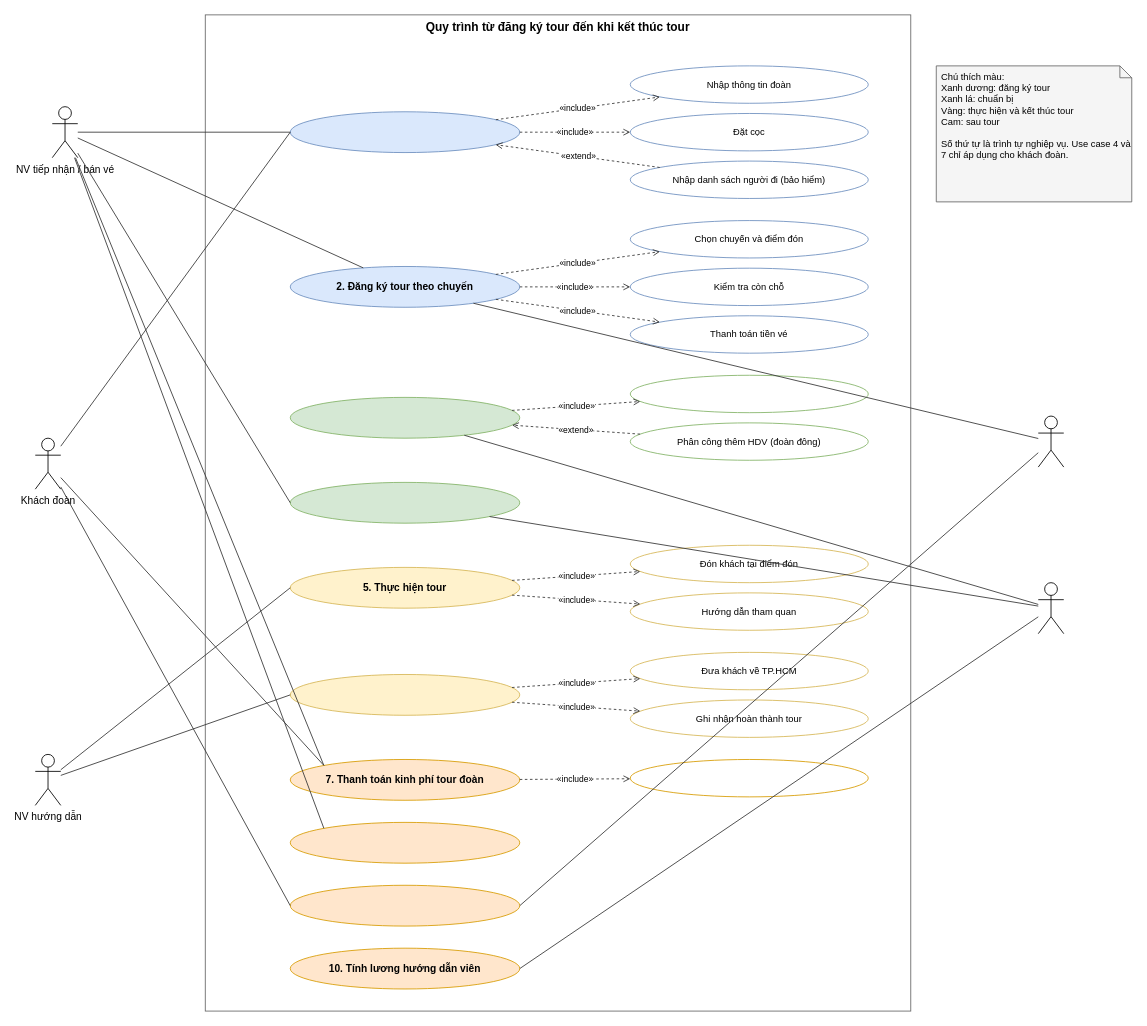
Some shapes in this 1147 by 1026 pixel diagram are drawn without their labels. The shapes that lost their labels are listed below. From the top down, each one's centre as x and y in pixels, then its label:
point (404, 132): 1. Đăng ký tour theo đoàn
point (748, 393): Kiểm tra trùng lịch
point (404, 417): 3. Phân công hướng dẫn viên
point (1050, 441): Khách lẻ
point (404, 502): 4. Sắp xếp xe đón khách đoàn
point (1050, 608): Quản lý / Điều hành
point (404, 694): 6. Kết thúc tour
point (748, 778): Tính kinh phí và trừ tiền cọc
point (404, 842): 8. Gửi phiếu khảo sát
point (404, 905): 9. Điền phiếu góp ý
